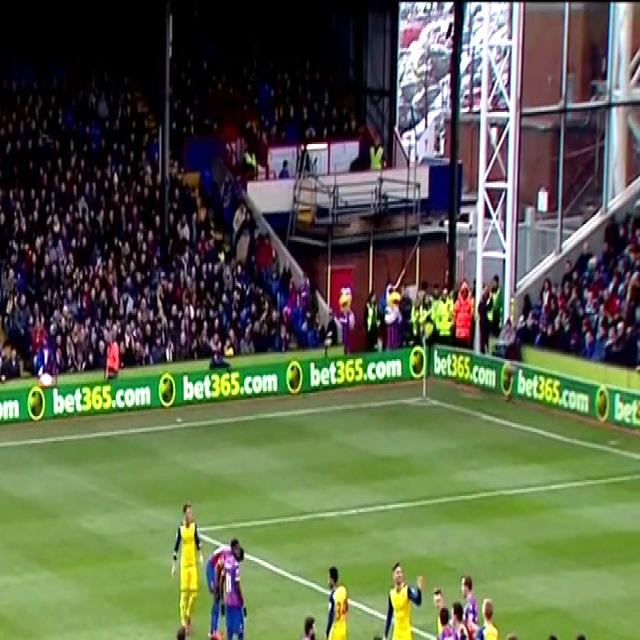soccer-player: (222, 530, 256, 640), (318, 553, 353, 640), (453, 562, 486, 640), (429, 586, 468, 640), (461, 579, 493, 640), (472, 586, 504, 640), (281, 611, 331, 640), (161, 613, 211, 640), (562, 618, 610, 640), (538, 622, 570, 640), (494, 626, 533, 640), (360, 624, 393, 640)
